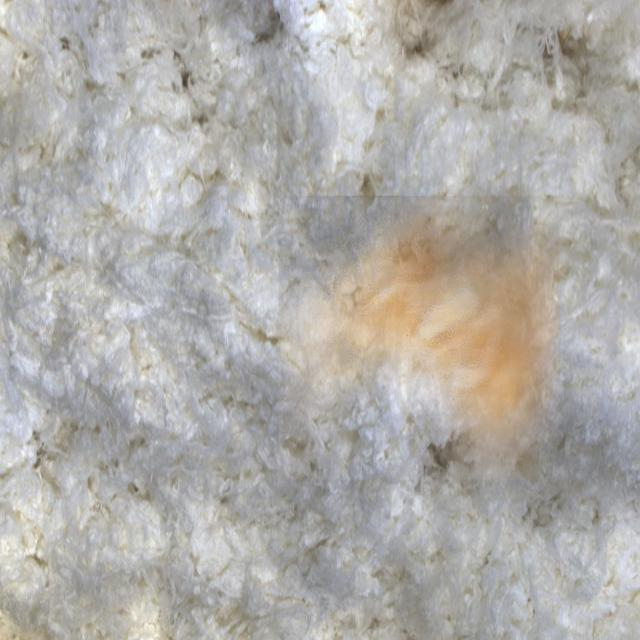dust: (278, 196, 559, 480)
